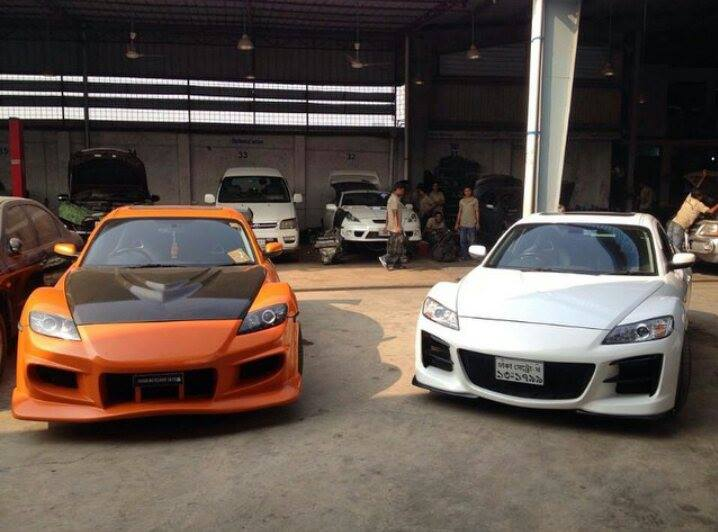registration_plate: (495, 356, 544, 385)
